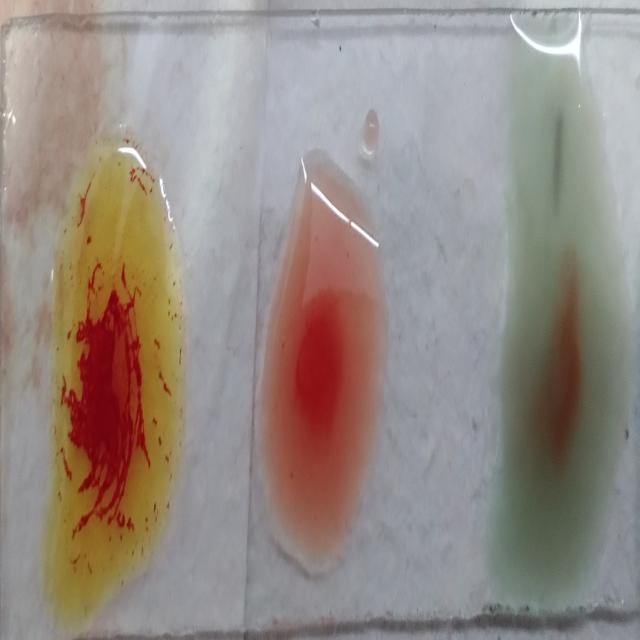B: (42, 158, 181, 606)
